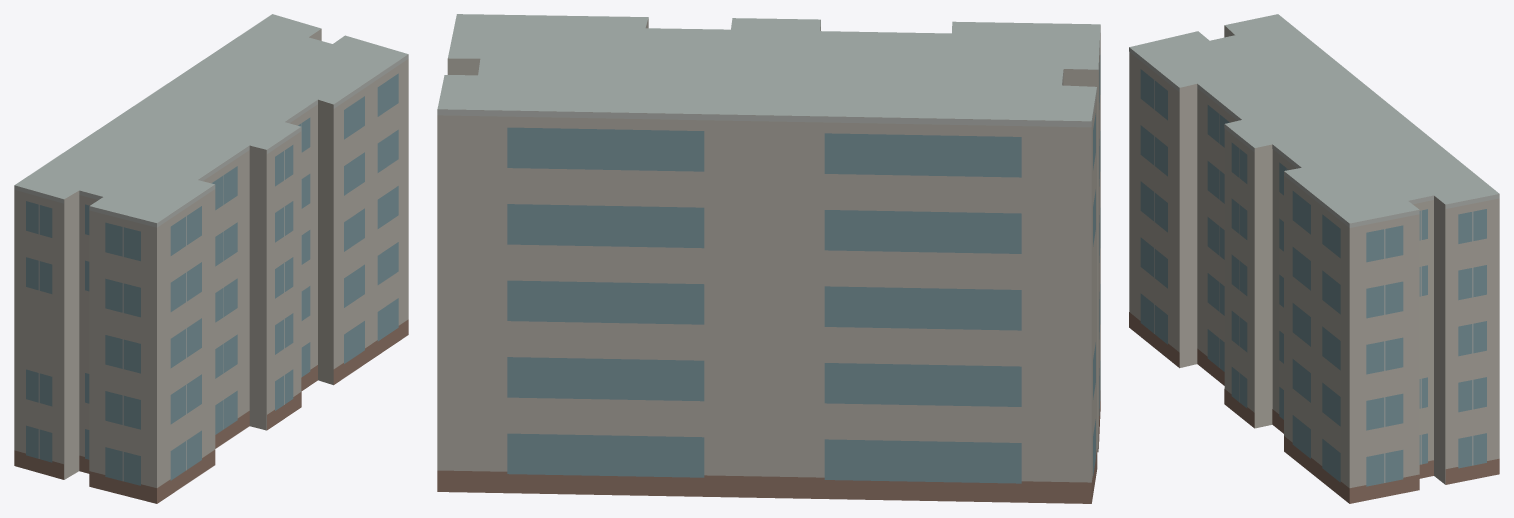
The model's file is survey-upis-32755078.glb.
3 renders of one model, left to right at view 1: azimuth 30°, elevation 25°; view 2: azimuth 150°, elevation 25°; view 3: azimuth 270°, elevation 25°, orthographic. The views are drawn at different scales.
Visible parts, largest first — view 1: survey-upis-32755078.tmp; view 2: survey-upis-32755078.tmp; view 3: survey-upis-32755078.tmp.
Part boxes in pixels (box(x1,y1,x2,y2)): survey-upis-32755078.tmp: box(14, 14, 408, 503); survey-upis-32755078.tmp: box(437, 14, 1100, 503); survey-upis-32755078.tmp: box(1129, 14, 1499, 503).
Size of the model in its own units: 24.46 by 15.25 by 18.28.
